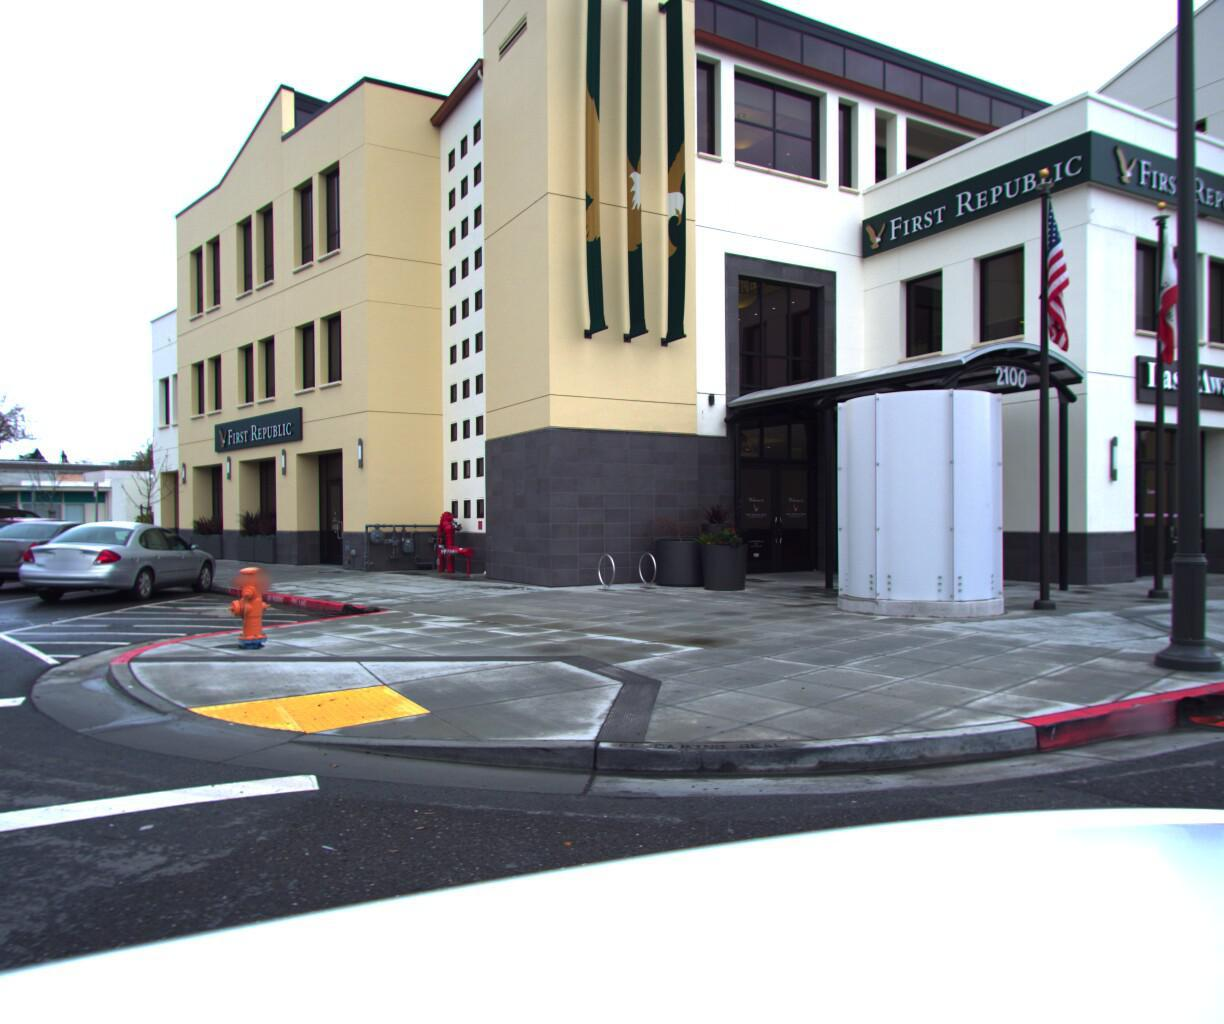car: (0, 523, 227, 615), (0, 523, 155, 602), (0, 520, 121, 585), (0, 505, 91, 580), (0, 525, 37, 577)
